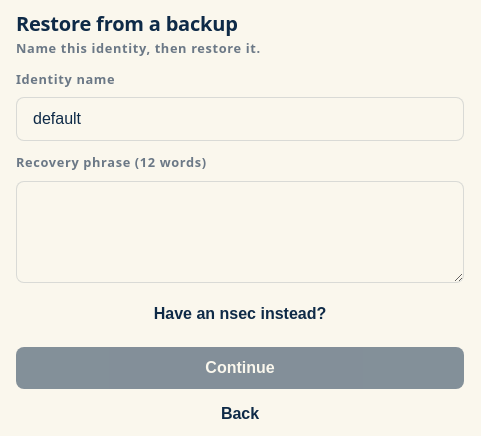
Test: Import — nsec mode › switches to nsec mode and back via the toggle links
Click the button "Have an nsec instead?": (240, 314) [16, 297, 464, 331]
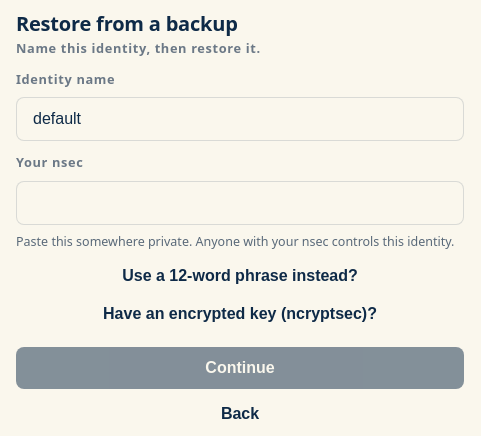
Expected: the field labelled "Your nsec" is shown, [16, 181, 464, 225]
Click the button "Use a 12-word phrase instead?": (240, 276) [16, 259, 464, 293]
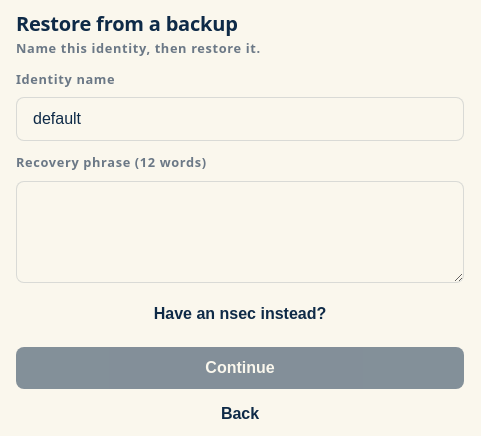
Expected: the text box labelled "Recovery phrase" is shown, [16, 181, 464, 283]
